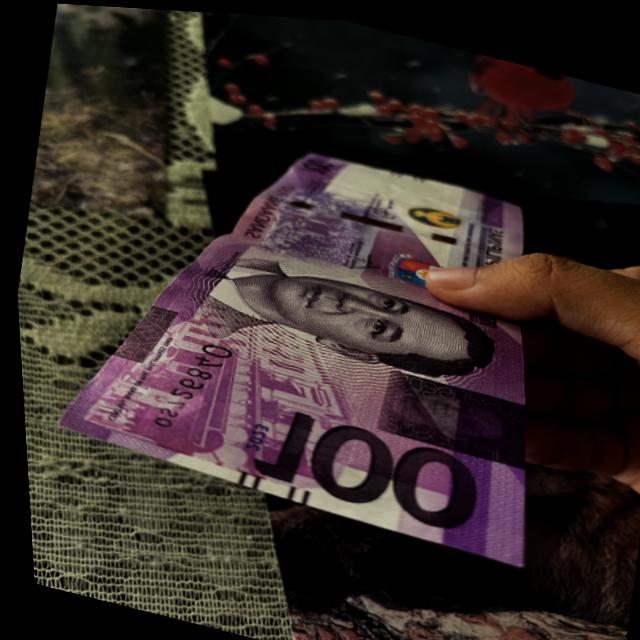concealed_value: (365, 363, 531, 461)
security_thread: (252, 184, 527, 259)
serial_number: (140, 328, 238, 446)
value: (238, 396, 483, 529)
